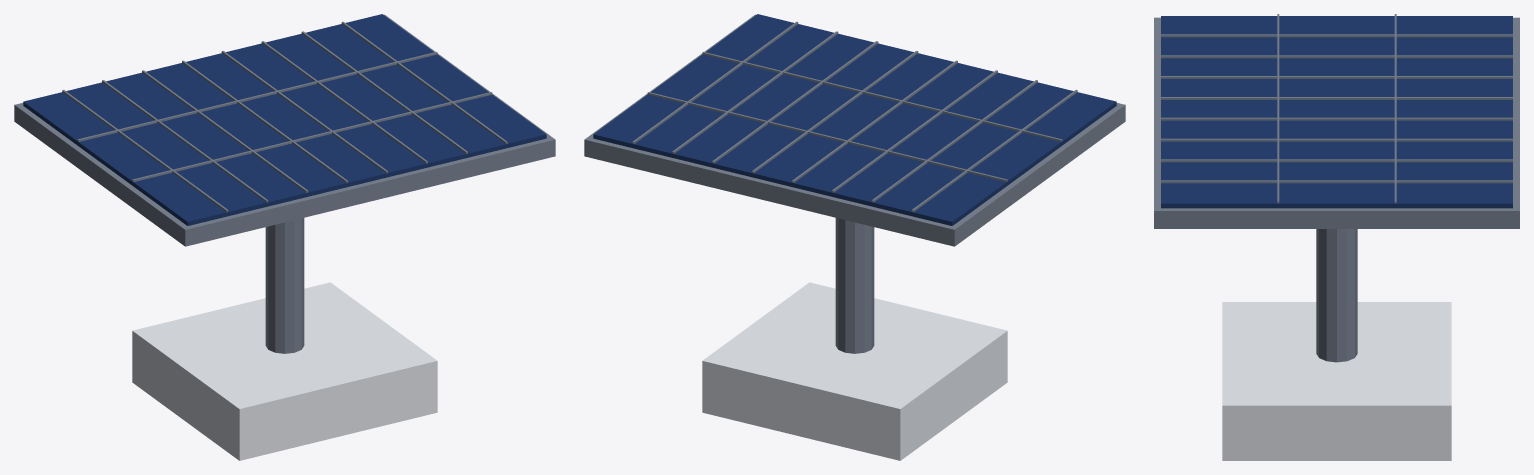
The model's file is Solar_Light.glb.
The picture shows the model from 3 angles, left to right: view 1: azimuth 30°, elevation 25°; view 2: azimuth 150°, elevation 25°; view 3: azimuth 270°, elevation 25°; orthographic projection. The views are drawn at different scales.
Visible parts, largest first — view 1: Solar_Light; view 2: Solar_Light; view 3: Solar_Light.
Part boxes in pixels (x1=…): Solar_Light: x1=14, y1=14, x2=555, y2=460; Solar_Light: x1=584, y1=14, x2=1125, y2=460; Solar_Light: x1=1154, y1=14, x2=1519, y2=460.
Size of the model in its own units: 0.598 by 0.4345 by 0.478.
